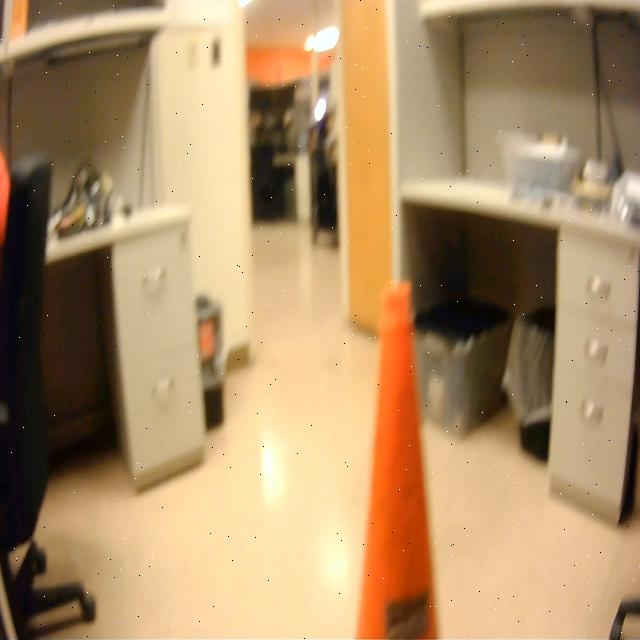traffic cone: (349, 272, 444, 640)
